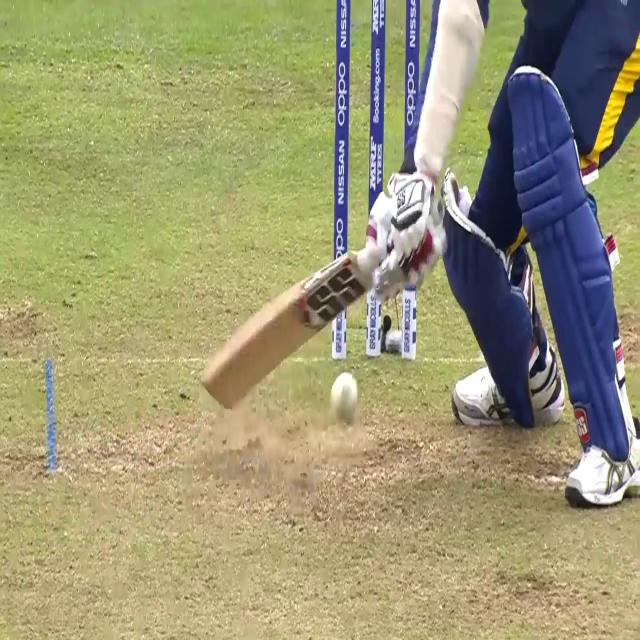ball: (328, 366, 363, 427)
